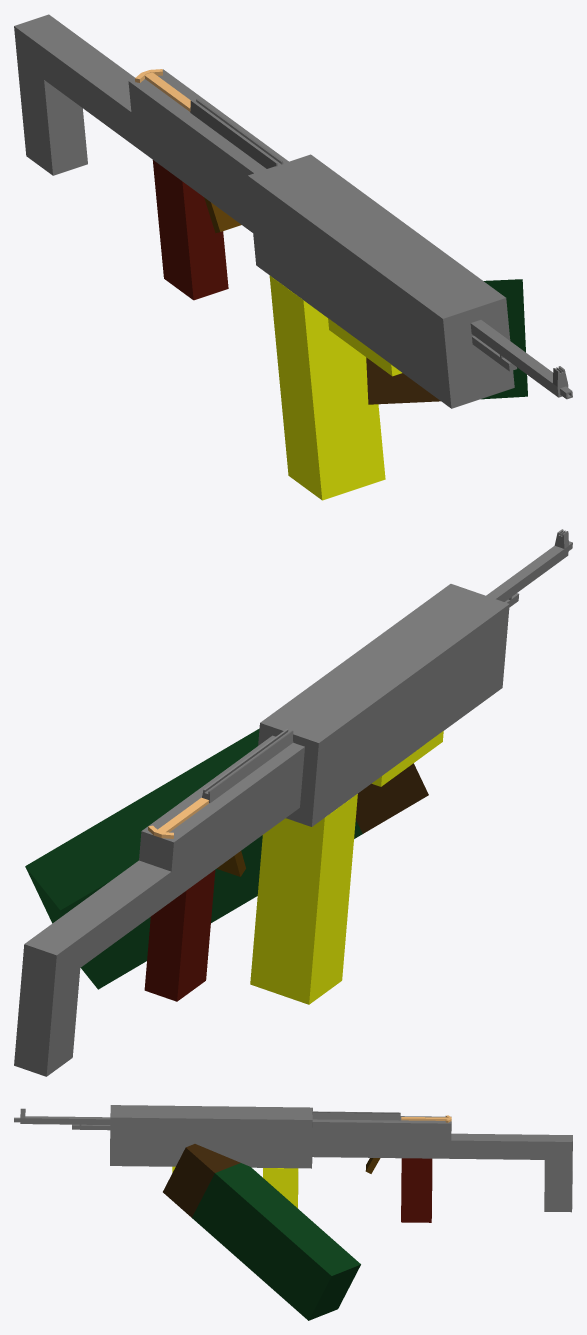
Rendered from RifleModelNew.fbx.
3 renders of one model, top to bottom at view 1: azimuth 30°, elevation 25°; view 2: azimuth 150°, elevation 25°; view 3: azimuth 270°, elevation 25°, orthographic. The views are drawn at different scales.
Parts seen in each view (by area): view 1: Cube_1, SolElSarjorYeri, Cube, SagEtTutusNoktası, Cube__1__1, Cube__2__1, Cube__1__3, Cube__2__3, Namlu, Cube__6_, SolElTutusNoktası; view 2: Cube_1, SolElSarjorYeri, Cube__1__3, Cube, Cube__2__1, Cube__1__1, SagEtTutusNoktası, Cube__2__3, Namlu, Cube__6_, SolElTutusNoktası; view 3: Cube__1__3, Cube_1, Cube, Cube__1__1, Cube__2__3, Cube__2__1, SagEtTutusNoktası, SolElSarjorYeri, Namlu, Cube__3__1.
Part boxes in pixels (<box>): Cube_1: <box>247,154,514,408</box>; SolElSarjorYeri: <box>269,275,385,500</box>; Cube: <box>128,69,288,232</box>; SagEtTutusNoktası: <box>152,160,228,300</box>; Cube__1__1: <box>14,26,143,150</box>; Cube__2__1: <box>14,14,87,175</box>; Cube__1__3: <box>481,279,527,399</box>; Cube__2__3: <box>366,357,440,404</box>; Namlu: <box>470,320,568,397</box>; Cube__6_: <box>190,100,277,168</box>; SolElTutusNoktası: <box>328,318,401,376</box>; Cube_1: <box>258,584,509,826</box>; SolElSarjorYeri: <box>250,794,357,1004</box>; Cube__1__3: <box>25,728,362,989</box>; Cube: <box>139,735,304,902</box>; Cube__2__1: <box>14,925,82,1076</box>; Cube__1__1: <box>51,859,189,986</box>; SagEtTutusNoktası: <box>144,870,215,1001</box>; Cube__2__3: <box>355,763,428,833</box>; Namlu: <box>486,545,568,601</box>; Cube__6_: <box>208,730,293,802</box>; SolElTutusNoktası: <box>372,731,443,786</box>; Cube__1__3: <box>192,1163,360,1320</box>; Cube_1: <box>110,1105,312,1168</box>; Cube: <box>312,1116,451,1158</box>; Cube__1__1: <box>431,1133,545,1159</box>; Cube__2__3: <box>163,1144,240,1217</box>; Cube__2__1: <box>544,1134,572,1212</box>; SagEtTutusNoktası: <box>401,1158,432,1222</box>; SolElSarjorYeri: <box>263,1168,298,1208</box>; Namlu: <box>20,1116,110,1124</box>; Cube__3__1: <box>312,1112,400,1120</box>.
Bounding box in the file's own units: 25.54 × 25.04 × 81.89.
